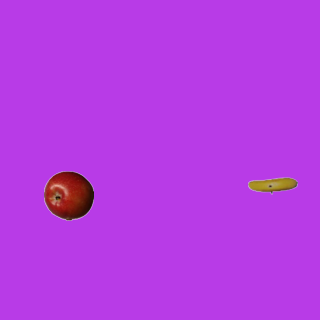Apple Braeburn: (43, 170, 93, 220)
Banana: (247, 160, 297, 210)
